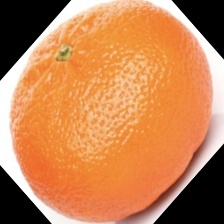orange: (23, 44, 206, 186)
